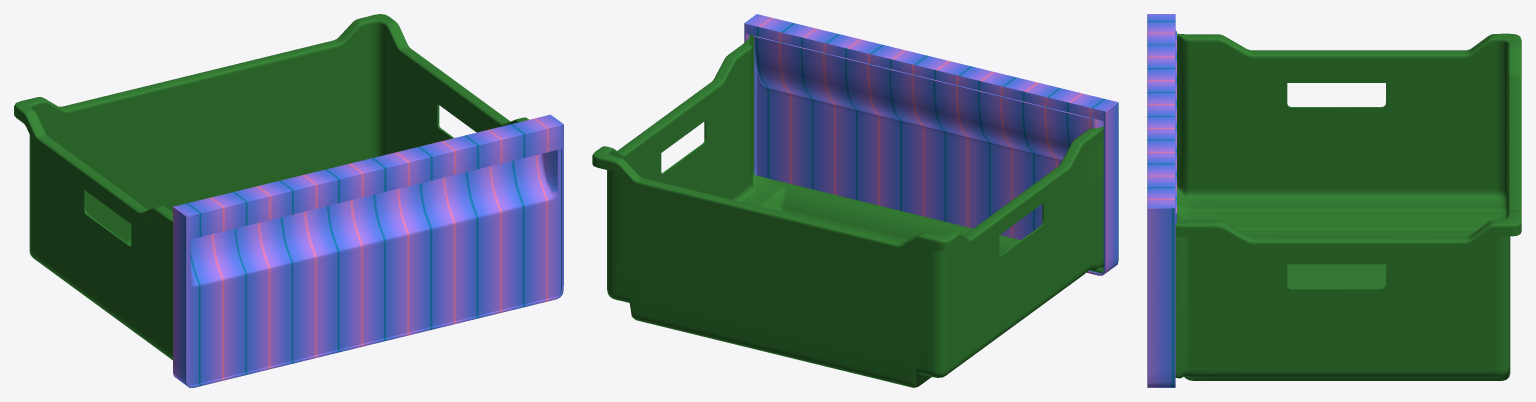
File: SM_Fridge_Drawer_03.fbx
The picture shows the model from 3 angles, left to right: view 1: azimuth 30°, elevation 25°; view 2: azimuth 150°, elevation 25°; view 3: azimuth 270°, elevation 25°; orthographic projection. The views are drawn at different scales.
Visible parts, largest first — view 1: SM_Fridge_Drawer_03; view 2: SM_Fridge_Drawer_03; view 3: SM_Fridge_Drawer_03.
Part boxes in pixels (x1,y1,x2,y2): SM_Fridge_Drawer_03: (14, 14, 563, 387); SM_Fridge_Drawer_03: (592, 14, 1118, 387); SM_Fridge_Drawer_03: (1147, 14, 1521, 387).
Size of the model in its own units: 40.9 by 19.2 by 33.3.
3 materials, 2 textured.
